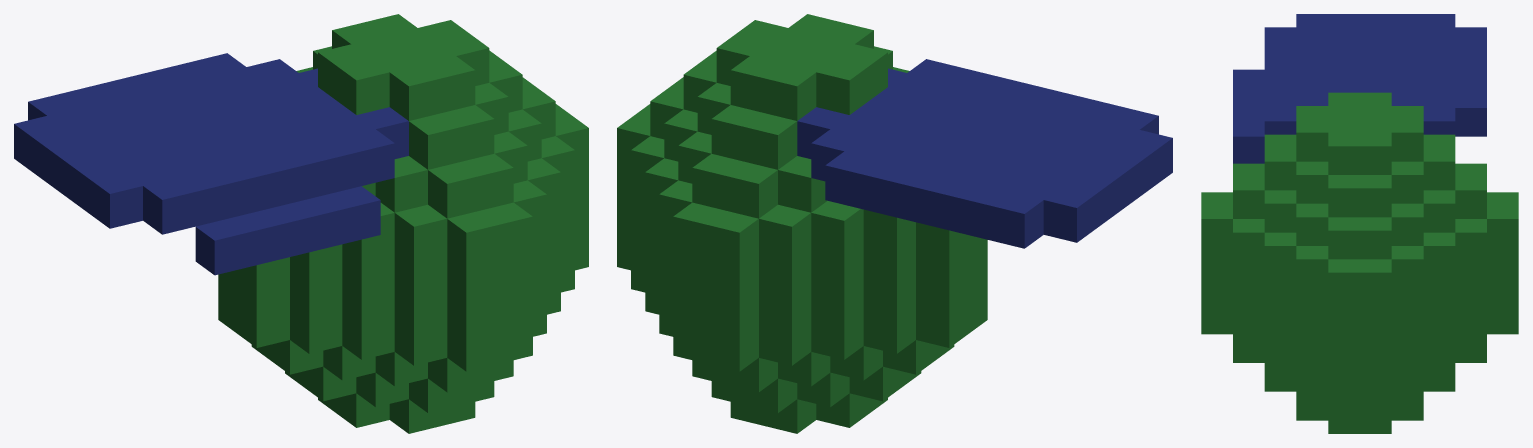
The model's file is damage_mecha-2.obj.
The picture shows the model from 3 angles, left to right: view 1: azimuth 30°, elevation 25°; view 2: azimuth 150°, elevation 25°; view 3: azimuth 270°, elevation 25°; orthographic projection. The views are drawn at different scales.
Visible parts, largest first — view 1: damage_mecha-2; view 2: damage_mecha-2; view 3: damage_mecha-2.
Boxes of the visible parts, x1,y1,x2,y2 form: damage_mecha-2: (14, 14, 588, 433); damage_mecha-2: (617, 14, 1172, 433); damage_mecha-2: (1201, 14, 1518, 433).
Size of the model in its own units: 15 by 10 by 10.
Materials: 1 (1 with a texture image).
